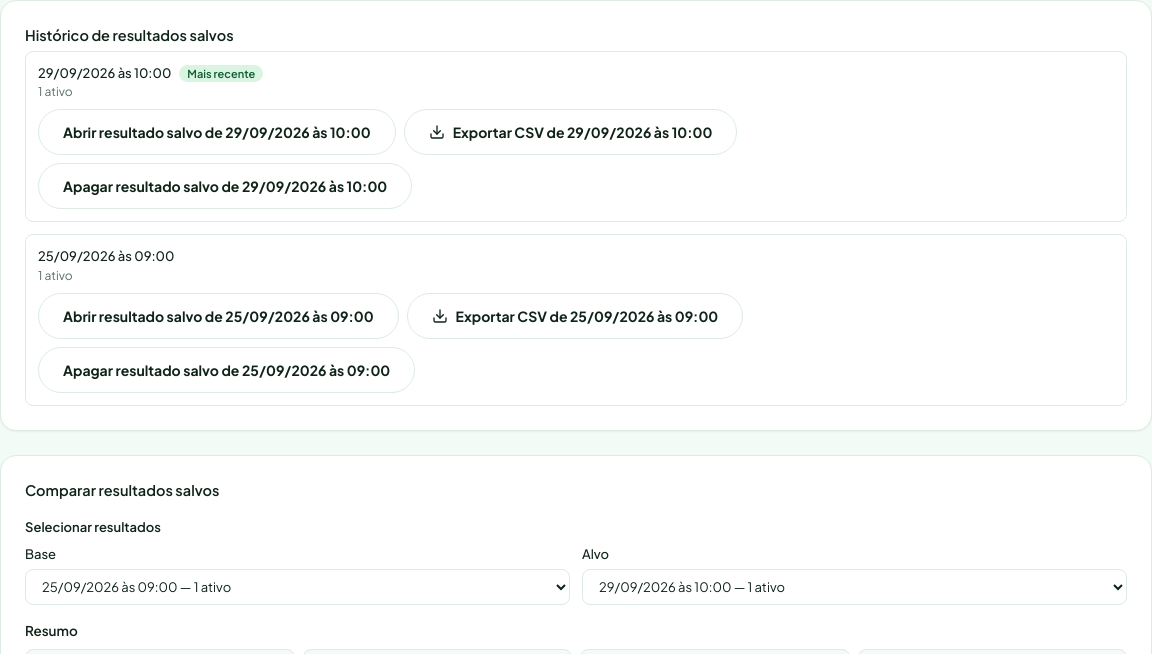
integration across result sources › 12. updates when a different snapshot is opened
Click the button "Abrir resultado salvo de 29/09/2026 às 10:00".
click(217, 132)  # box [38, 109, 396, 155]
(page scrolled)
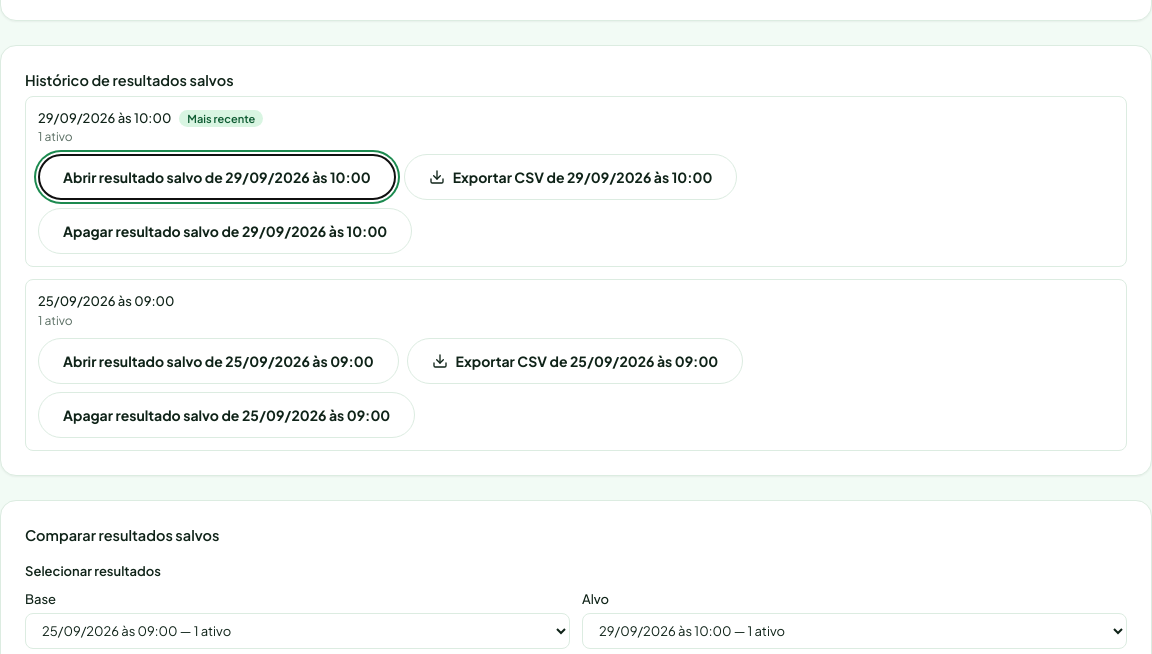
Click the button "Abrir resultado salvo de 25/09/2026 às 09:00".
click(218, 360)  # box [38, 338, 399, 384]
(page scrolled)
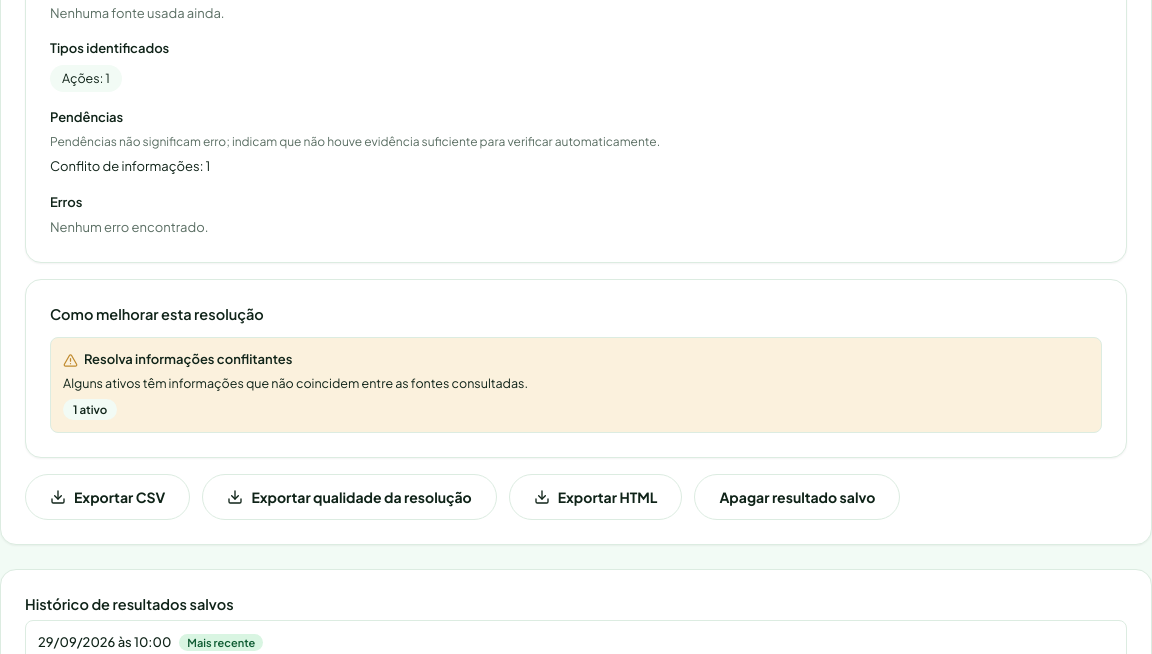
Result: the text "Resolva informações conflitantes" is shown at [84, 350, 292, 370]
